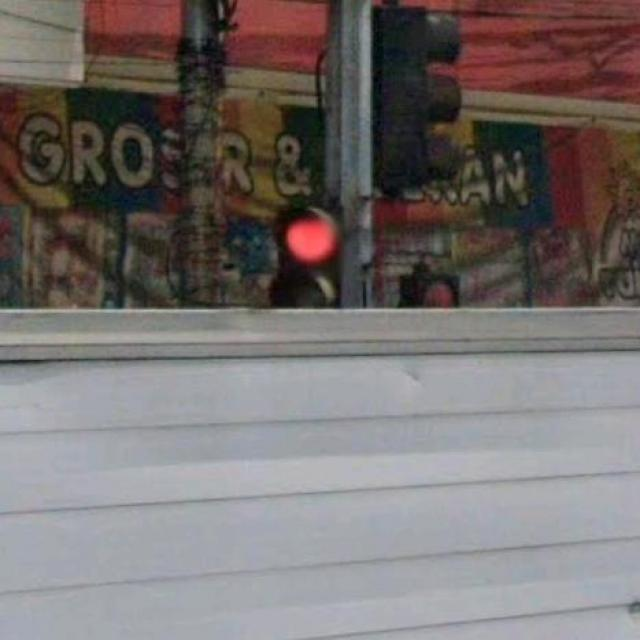red_light: (273, 201, 340, 306)
